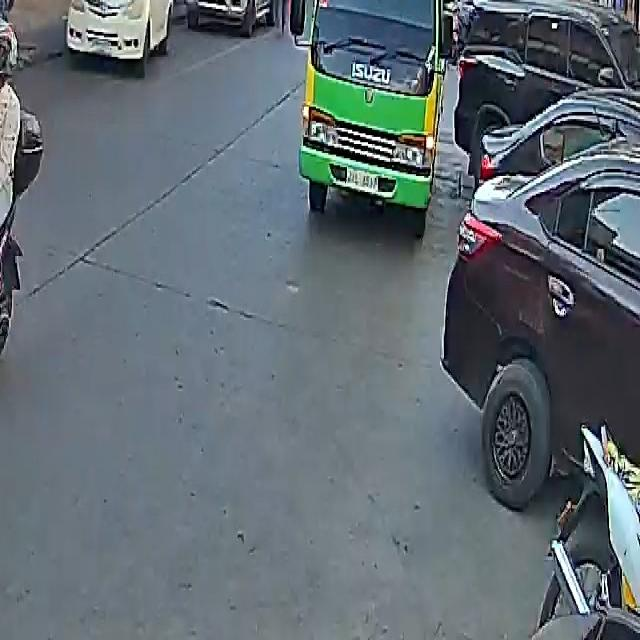car: (442, 149, 640, 520), (450, 0, 640, 188), (64, 0, 176, 64), (186, 0, 275, 30)
